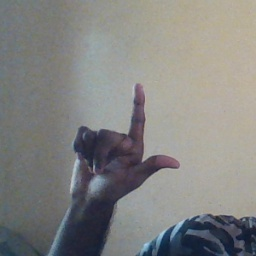L: (65, 83, 185, 200)
